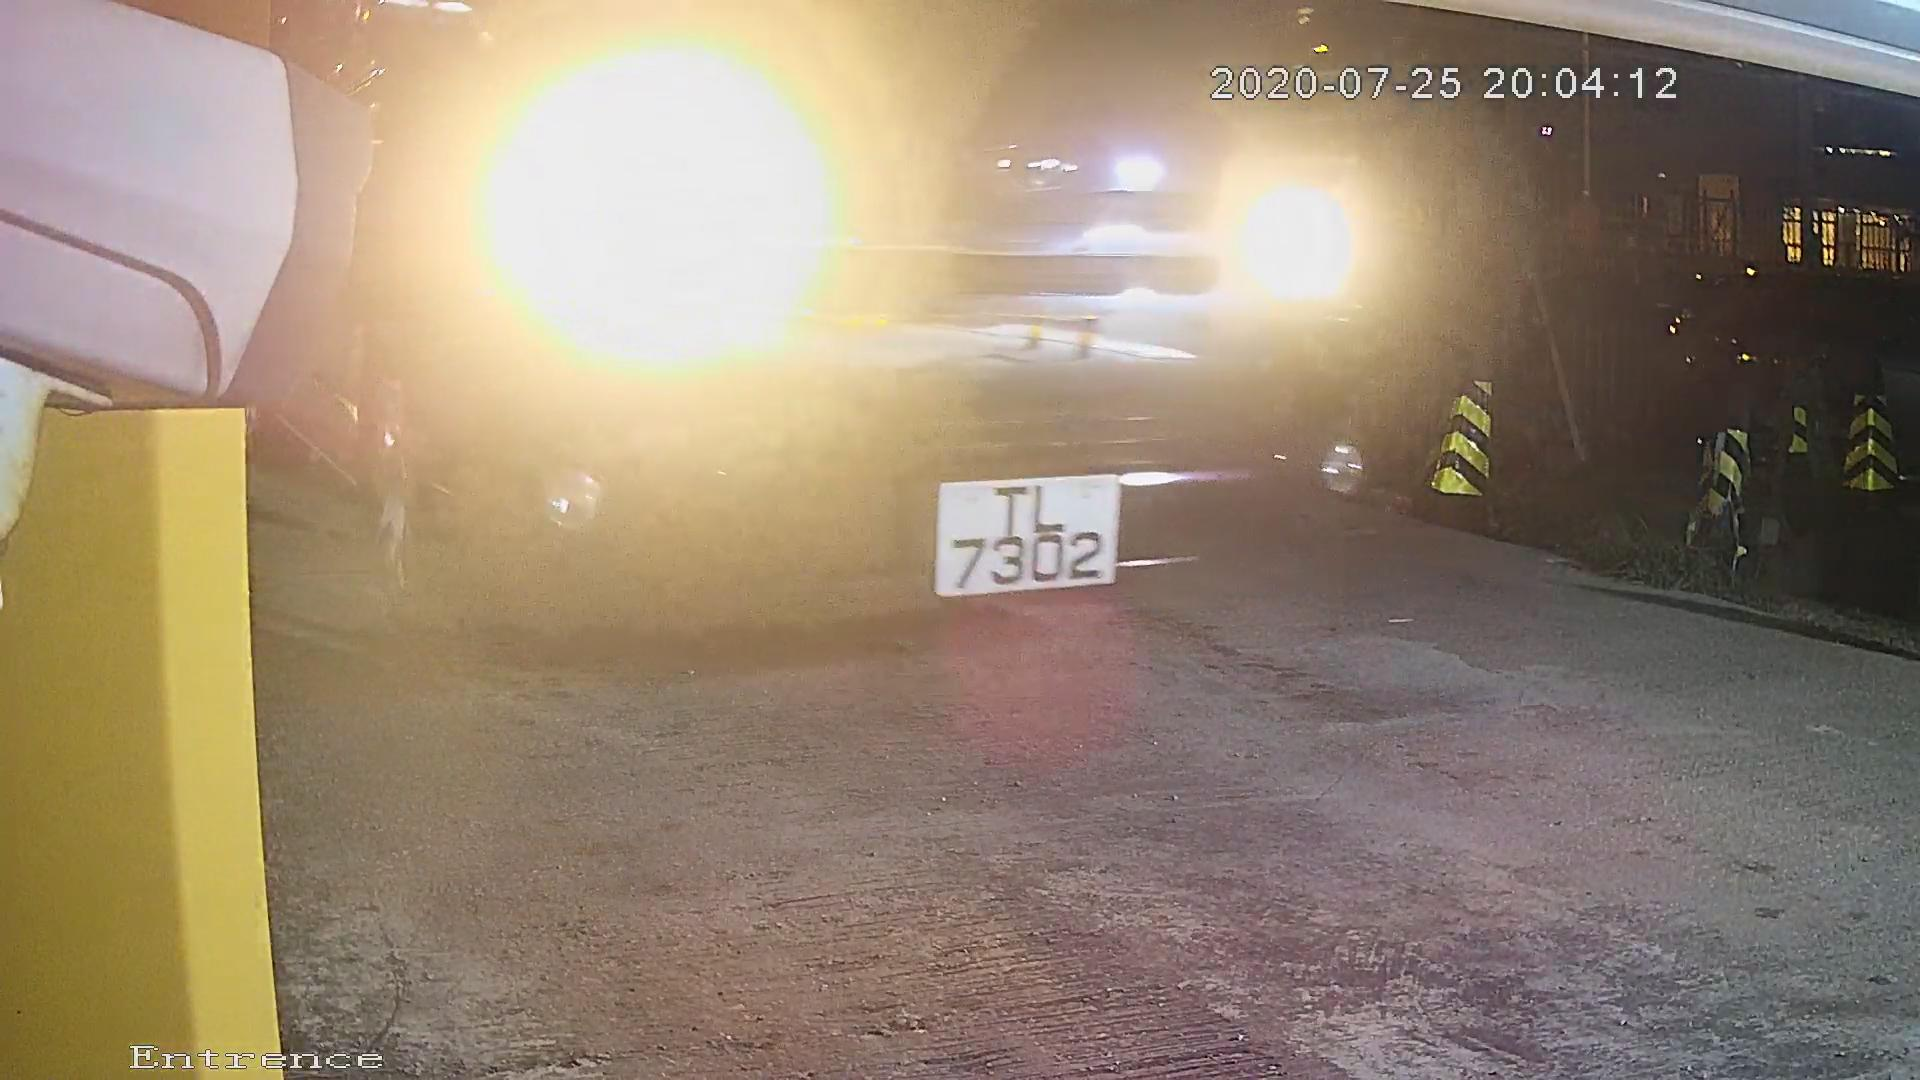Car: (163, 1, 1552, 729)
License Plate: (892, 459, 1149, 603)
